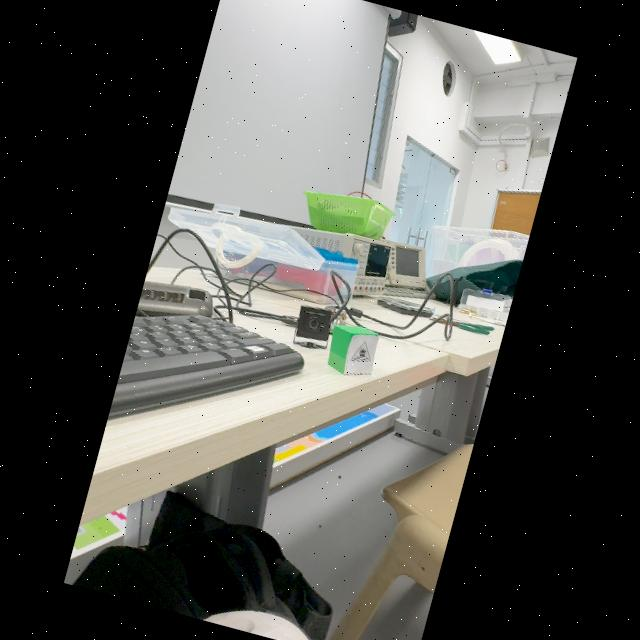Tsunami: (350, 341, 370, 363)
